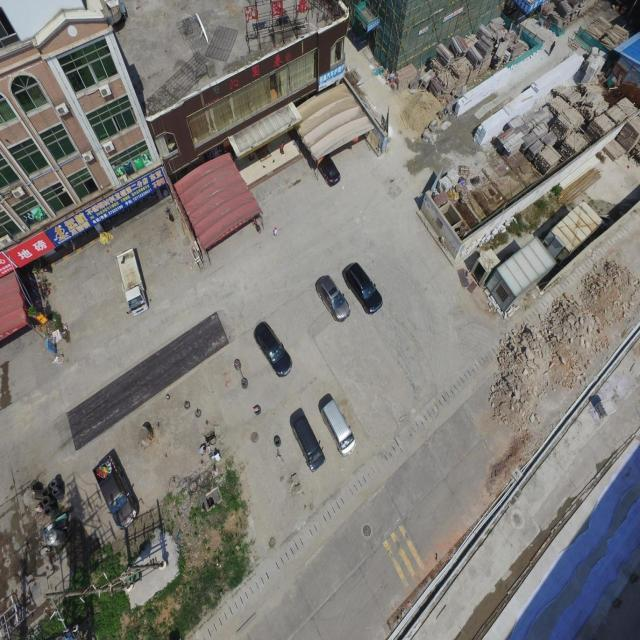p3rson: (548, 40, 556, 56), (272, 225, 278, 239), (212, 450, 220, 460), (198, 444, 205, 454)
